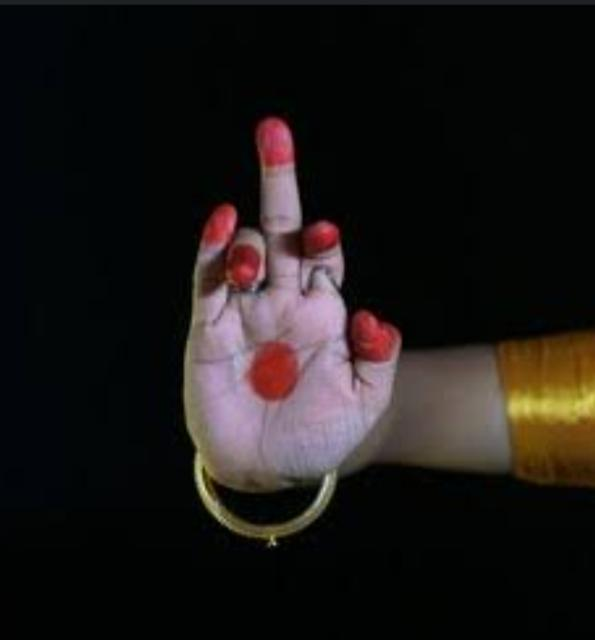shuktund: (182, 117, 404, 545)
